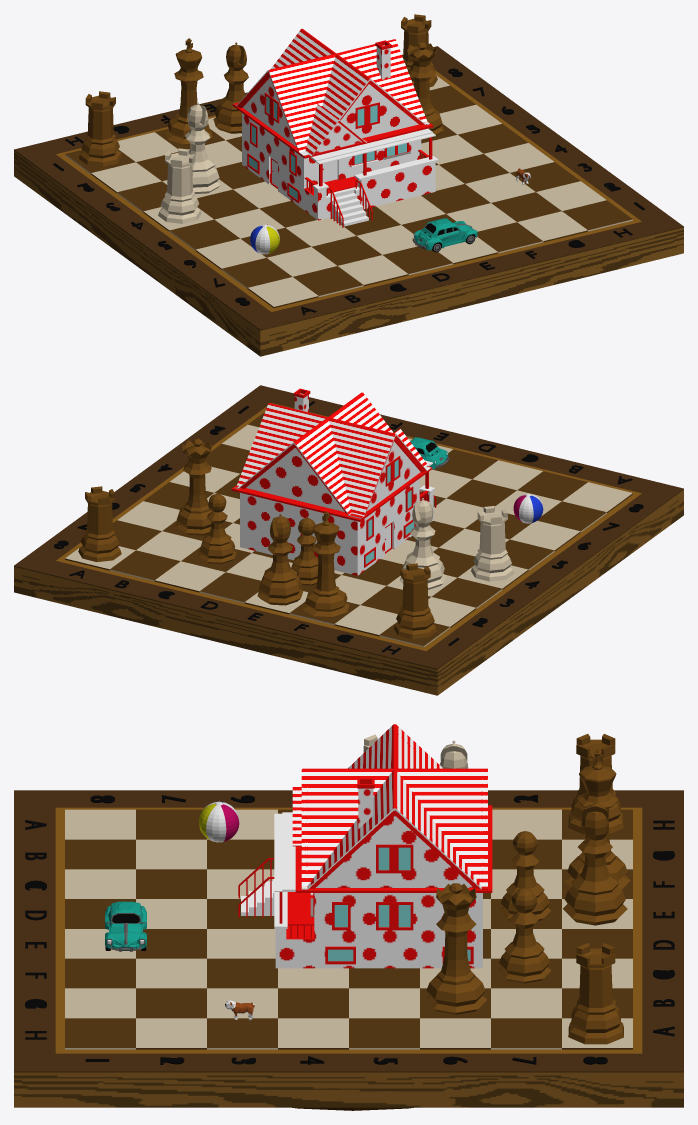
The picture shows the model from 3 angles, top to bottom: view 1: azimuth 30°, elevation 25°; view 2: azimuth 150°, elevation 25°; view 3: azimuth 270°, elevation 25°; orthographic projection. The views are drawn at different scales.
Parts seen in each view (by area): view 1: Cube.002, Cube.196, VEHICLES_VOLKSWAGEN, OBJRANDOM_BEACHBALL; view 2: Cube.002, Cube.196, OBJRANDOM_BEACHBALL, VEHICLES_VOLKSWAGEN; view 3: Cube.002, Cube.196, VEHICLES_VOLKSWAGEN, OBJRANDOM_BEACHBALL.
Part boxes in pixels (left/top/right/bottom): Cube.002: left=14, top=14, right=683, bottom=356; Cube.196: left=232, top=28, right=438, bottom=227; VEHICLES_VOLKSWAGEN: left=412, top=218, right=477, bottom=252; OBJRANDOM_BEACHBALL: left=250, top=224, right=279, bottom=254; Cube.002: left=14, top=385, right=683, bottom=695; Cube.196: left=231, top=388, right=436, bottom=575; OBJRANDOM_BEACHBALL: left=513, top=493, right=543, bottom=523; VEHICLES_VOLKSWAGEN: left=410, top=437, right=449, bottom=469; Cube.002: left=14, top=734, right=683, bottom=1107; Cube.196: left=238, top=724, right=492, bottom=968; VEHICLES_VOLKSWAGEN: left=105, top=901, right=146, bottom=951; OBJRANDOM_BEACHBALL: left=199, top=801, right=239, bottom=842.
Size of the model in its own units: 3981 by 1551 by 4012.
Materials: 37 (3 with a texture image).
